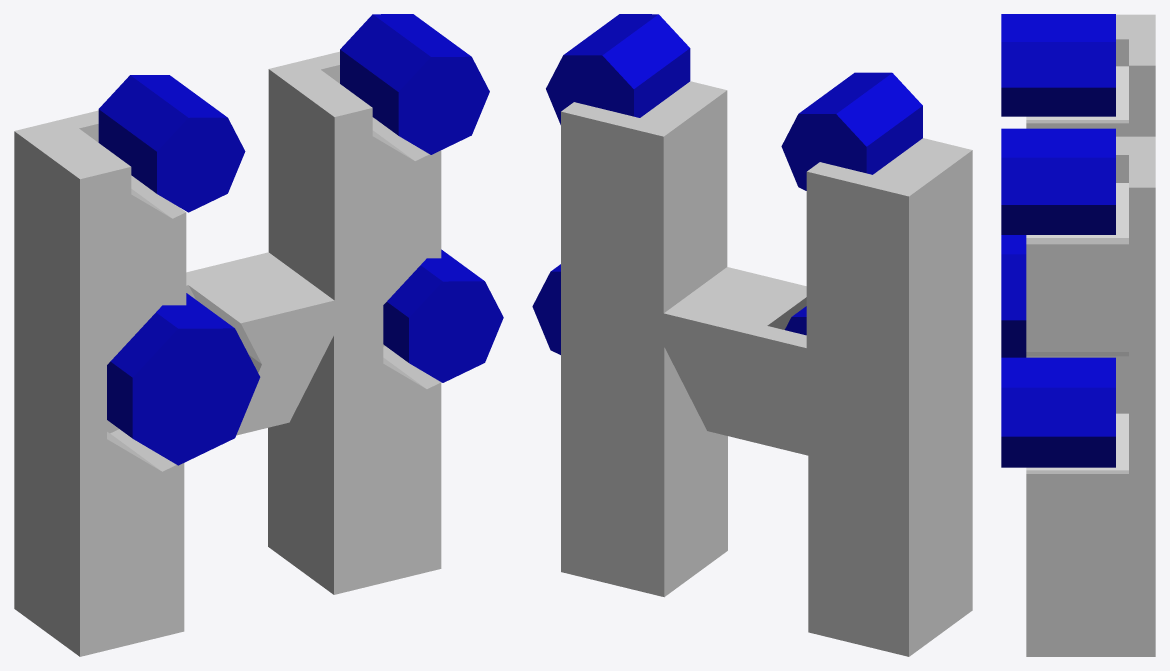
Rendered from Ch_Lite_H_01.fbx.
The picture shows the model from 3 angles, left to right: view 1: azimuth 30°, elevation 25°; view 2: azimuth 150°, elevation 25°; view 3: azimuth 270°, elevation 25°; orthographic projection. The views are drawn at different scales.
Parts seen in each view (by area): view 1: sphere1; view 2: sphere1; view 3: sphere1.
Part boxes in pixels (left/top/right/bottom): sphere1: left=14, top=14, right=503, bottom=656; sphere1: left=532, top=14, right=972, bottom=656; sphere1: left=1001, top=14, right=1155, bottom=656.
Size of the model in its own units: 0.7203 by 0.8822 by 0.2387.
